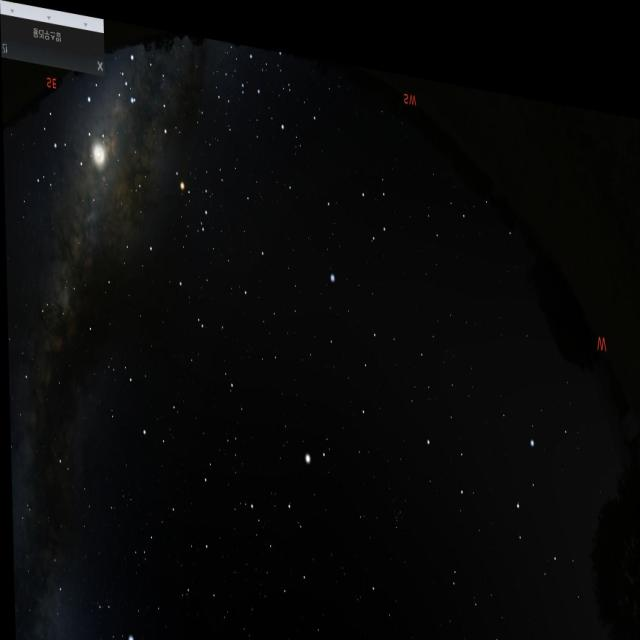bootes: (248, 408, 332, 618)
leo: (408, 380, 567, 564)
lyra: (88, 583, 136, 640)
moon: (82, 116, 120, 192)
scorpius: (115, 36, 214, 250)
